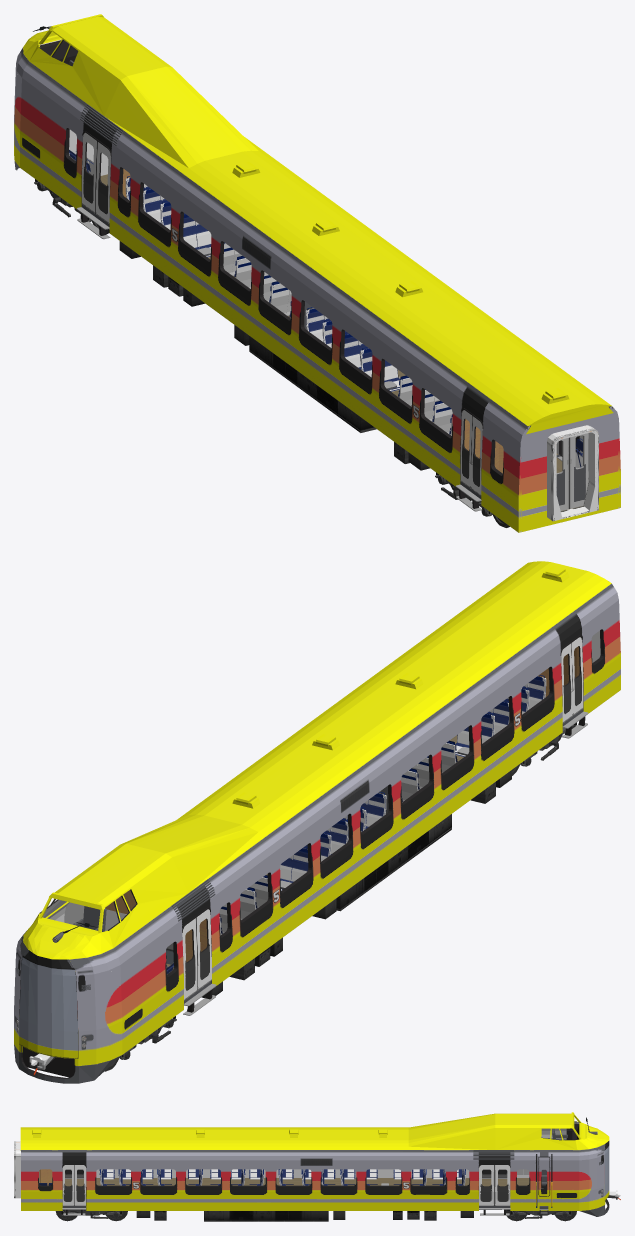
The model's file is mrwicmmfront_back.obj.
3 renders of one model, top to bottom at view 1: azimuth 30°, elevation 25°; view 2: azimuth 150°, elevation 25°; view 3: azimuth 270°, elevation 25°, orthographic. The views are drawn at different scales.
Parts seen in each view (by area): view 1: side, jibung, chair_second, backout, habu, mak, jibungparts, backdoor, door_RB, door_RF, sadari, DT71 (+1 smaller); view 2: side, jibung, chair_second, front, side_front, habu, jibungparts, door_RF, door_RB, frontparts, sadari, backin (+2 smaller); view 3: side, jibung, chair_second, habu, badak, side_front, DT71, door_LB, door_LF, inside, jibungparts, sadari (+6 smaller).
Part boxes in pixels (bbox=[...]): side: bbox=[20, 61, 620, 532]; jibung: bbox=[23, 16, 611, 425]; chair_second: bbox=[125, 176, 452, 435]; backout: bbox=[522, 404, 617, 531]; habu: bbox=[109, 229, 429, 470]; mak: bbox=[547, 425, 598, 521]; jibungparts: bbox=[80, 104, 569, 404]; backdoor: bbox=[556, 433, 588, 510]; door_RB: bbox=[81, 132, 472, 487]; door_RF: bbox=[95, 141, 482, 495]; sadari: bbox=[77, 131, 576, 511]; DT71: bbox=[34, 179, 509, 527]; side: bbox=[45, 583, 620, 1054]; jibung: bbox=[23, 561, 611, 959]; chair_second: bbox=[219, 675, 546, 935]; front: bbox=[19, 949, 78, 1065]; side_front: bbox=[14, 928, 122, 1065]; habu: bbox=[22, 770, 511, 1077]; jibungparts: bbox=[171, 566, 569, 921]; door_RF: bbox=[196, 637, 583, 989]; door_RB: bbox=[182, 643, 572, 999]; frontparts: bbox=[14, 922, 121, 1083]; sadari: bbox=[182, 635, 588, 1015]; backin: bbox=[64, 630, 600, 931]; side: bbox=[21, 1128, 579, 1210]; jibung: bbox=[20, 1113, 609, 1149]; chair_second: bbox=[99, 1169, 465, 1185]; habu: bbox=[136, 1209, 501, 1221]; badak: bbox=[65, 1178, 529, 1186]; side_front: bbox=[579, 1144, 604, 1210]; DT71: bbox=[55, 1208, 576, 1221]; door_LB: bbox=[74, 1164, 510, 1205]; door_LF: bbox=[62, 1164, 494, 1205]; inside: bbox=[96, 1134, 566, 1177]; jibungparts: bbox=[32, 1129, 514, 1159]; sadari: bbox=[62, 1164, 510, 1215].
Size of the model in its own units: 3.17 by 4.52 by 26.18.
Materials: 34 (33 with a texture image).
